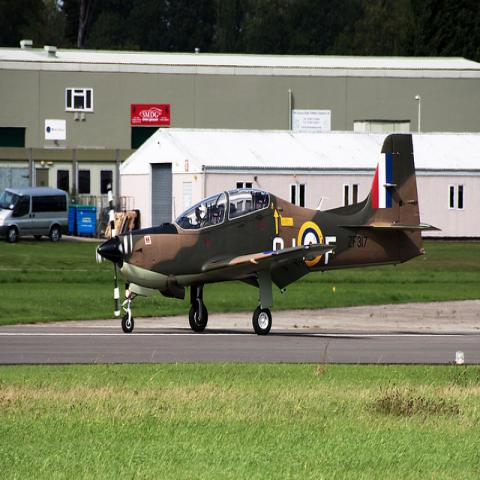truck: (0, 186, 69, 244)
